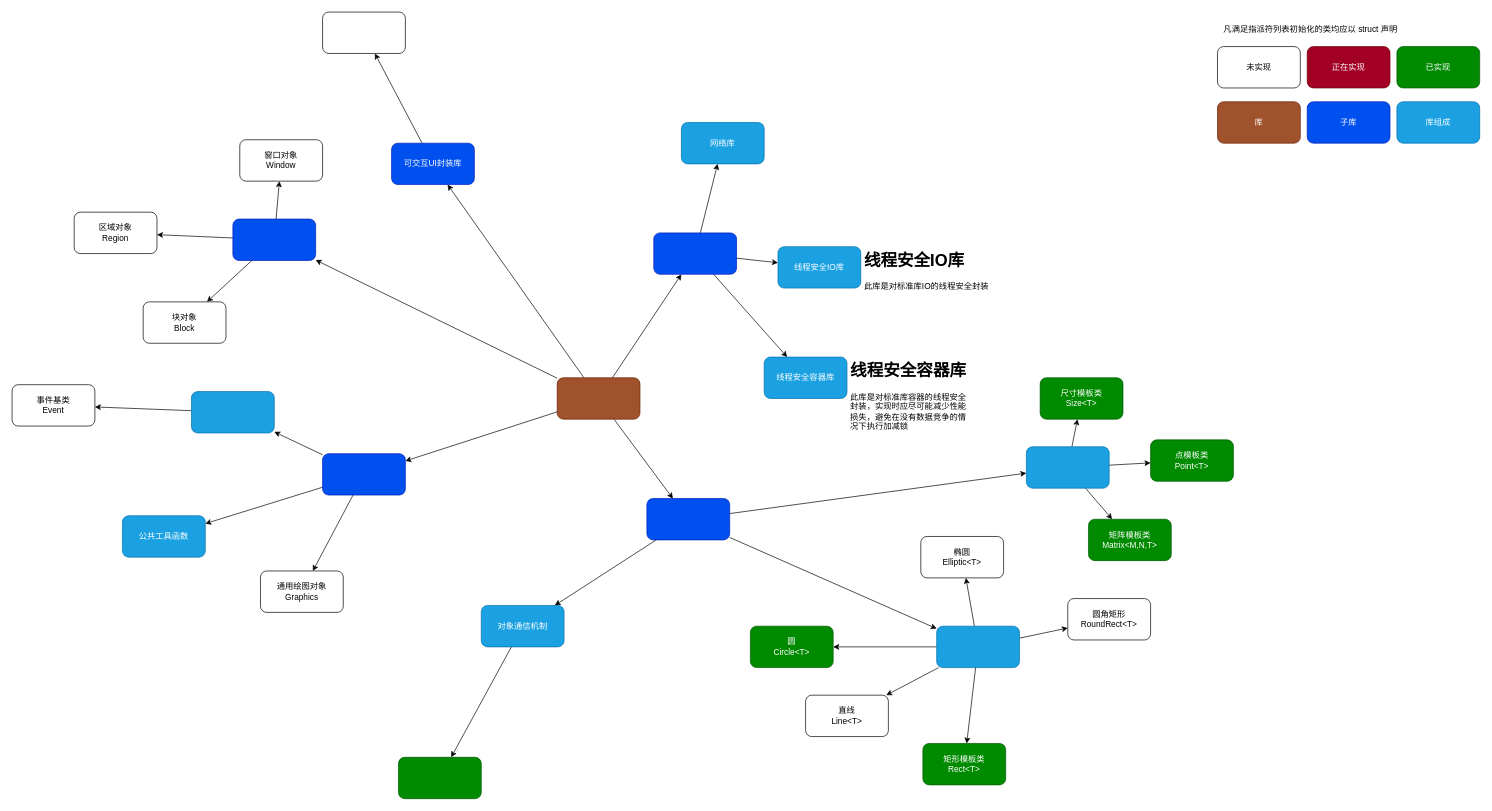
Some shapes in this 1492 by 811 pixel diagram are drawn without their labels. The box of each missing label's shape, as (x1, y1, x2, y2) in pixels:
(信号槽机制) 信号模板类 Signal<Args...>: (398, 757, 481, 799)
API接口库: (322, 453, 405, 495)
GraceFt: (556, 377, 640, 419)
图形数据类型: (936, 625, 1019, 668)
基础UI封装库: (232, 218, 316, 260)
基础设施库: (646, 498, 730, 540)
复合数据类型: (1026, 446, 1109, 488)
扩展支持库: (653, 232, 737, 274)
按钮 Button: (322, 11, 405, 53)
消息封装: (191, 391, 274, 433)
